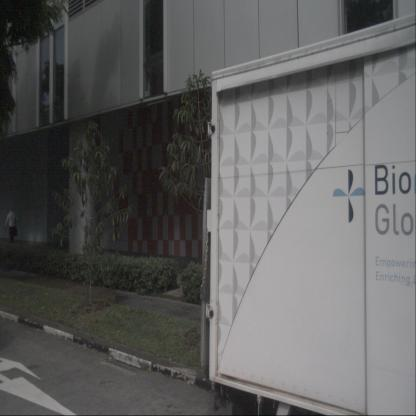human-pedestrian-adult: (4, 205, 18, 257)
vehicle-truck: (206, 12, 416, 416)
